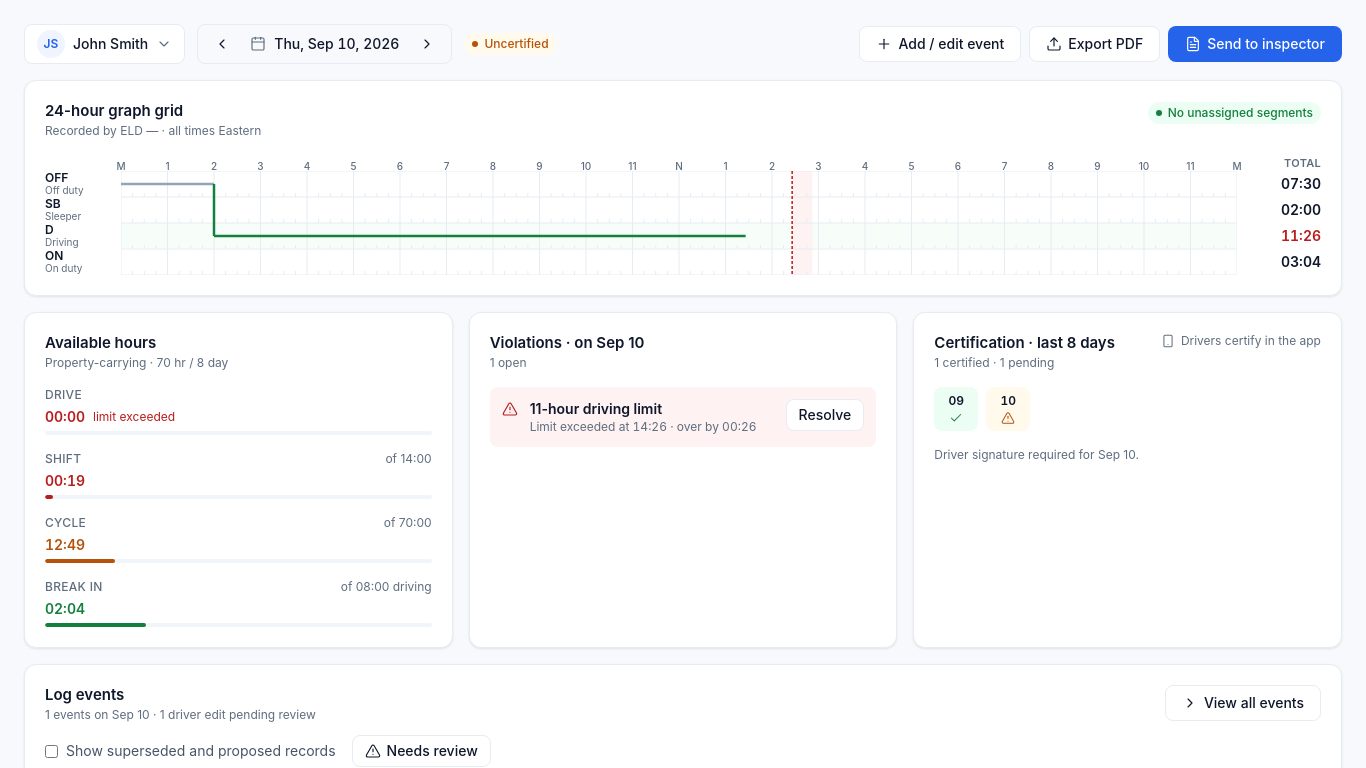
Test: 11.11 · Request a log edit › shows the §395.30 banner and surfaces DRIVING_TIME_IMMUTABLE verbatim, without retrying
Click the button "Add / edit event" at [940, 44], box [860,26,1021,62]
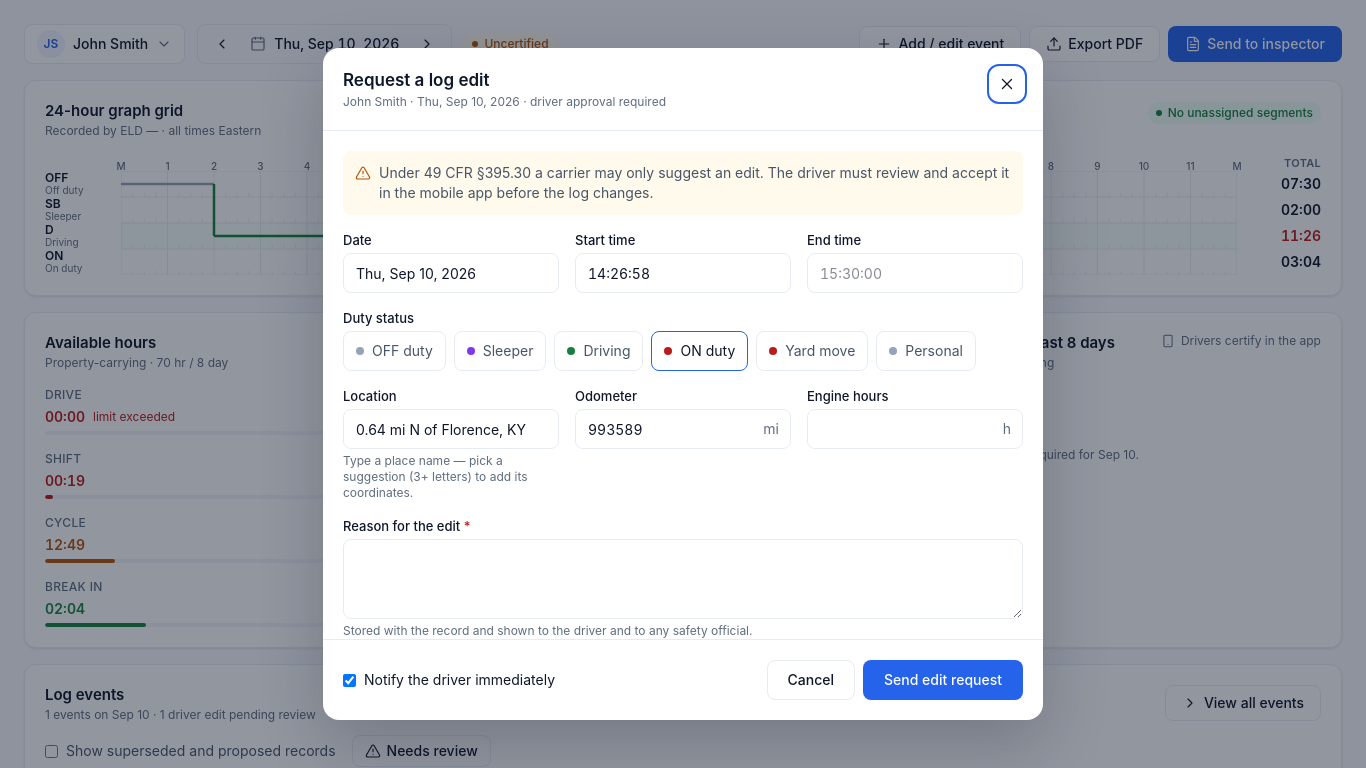
expect the text "Under 49 CFR §395.30 a carrier may only suggest an edit" is shown: met, box [379,164,1009,201]
Type "Driver forgot to switch to On duty." into the text box labelled "Reason for the edit *" at [683, 579], box [343,539,1023,619]
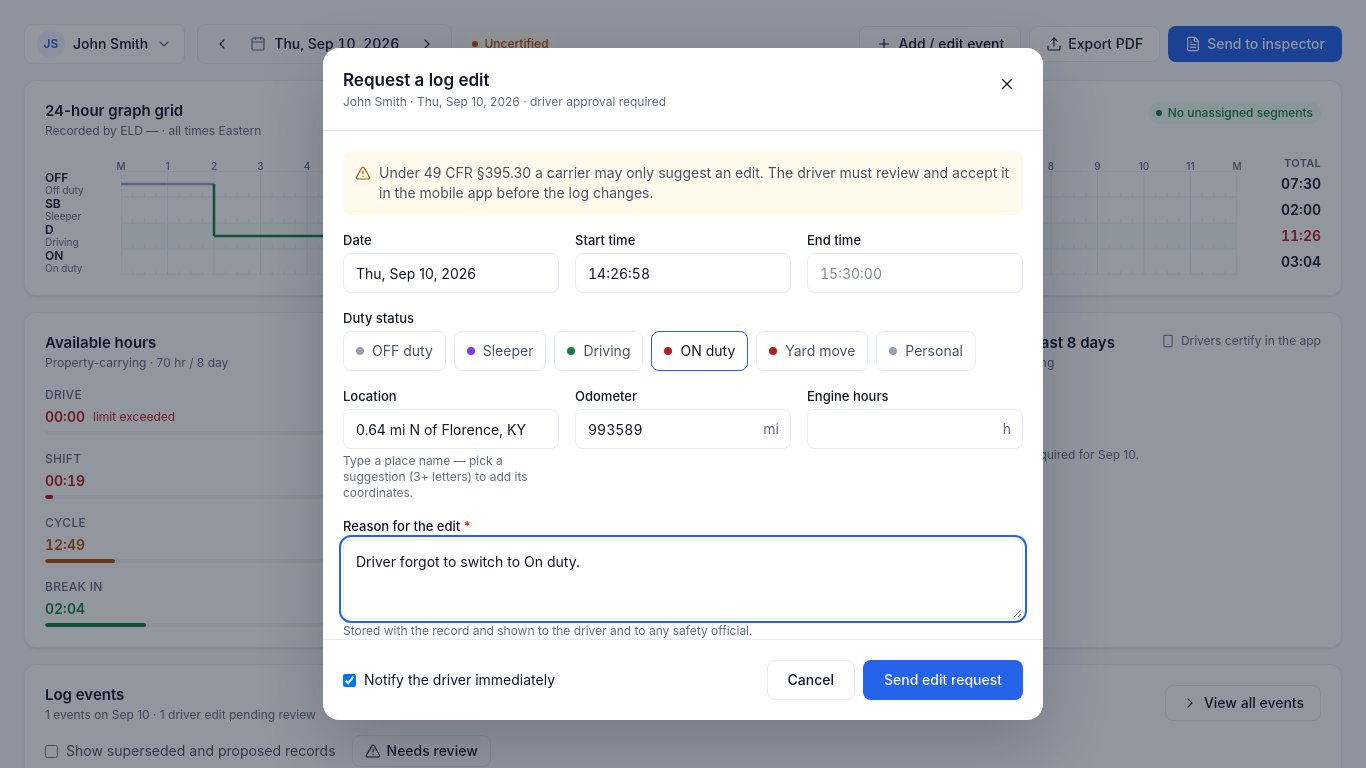
Click the button "Send edit request" at [943, 680], box [863,660,1023,700]
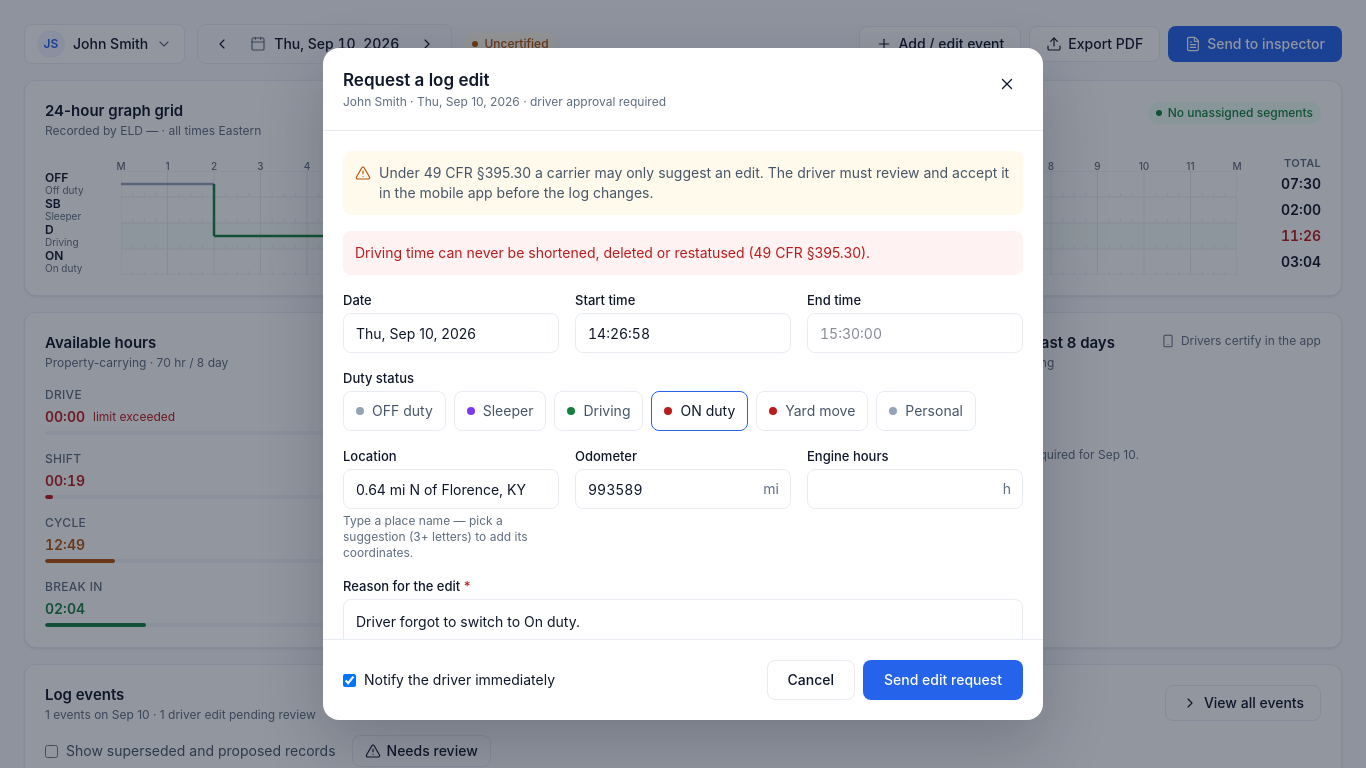
expect the text "Driving time can never be shortened, deleted or restatused (49 CFR §395.30)." is shown: met, box [343,231,1023,275]
